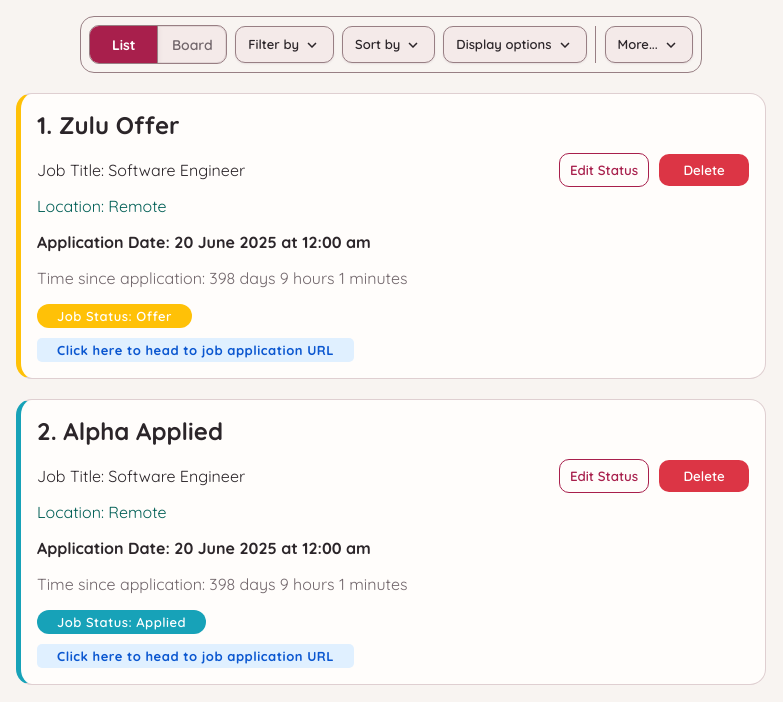
Test: Job application viewing flow › shows an error and rolls back the active list sort when saving fails
This screenshot has width=783, height=702.
Expected: the heading "1. Zulu Offer" is shown, [37,110,180,140]
Click the button "Sort by": (389, 44) [342,26,435,63]
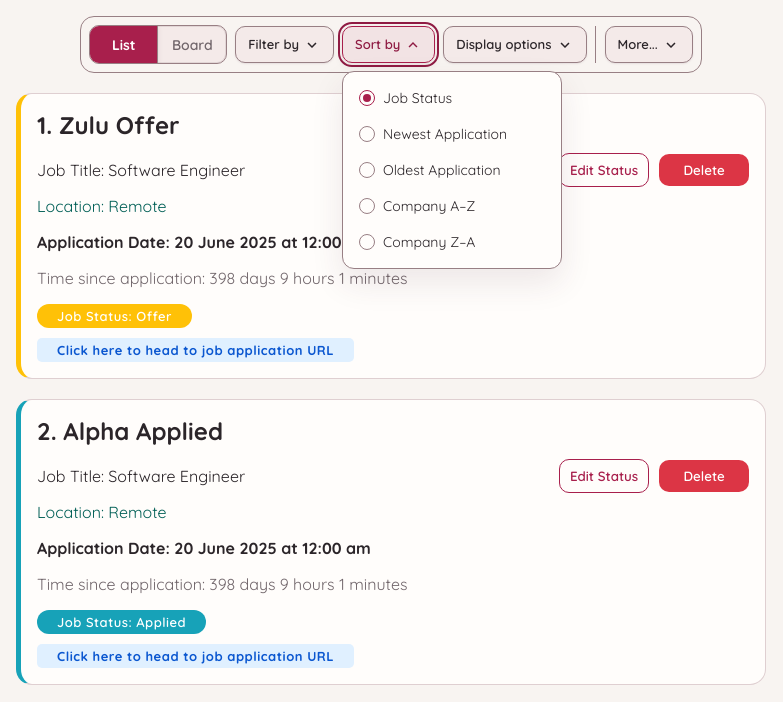
Click the radio button labelled "Company A–Z": (417, 206) [359,197,475,215]
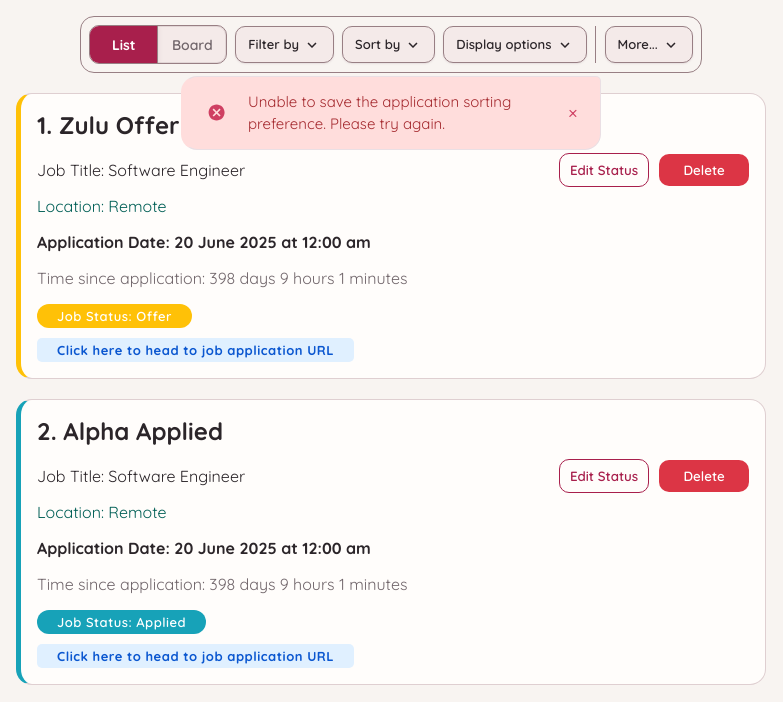
Now the text "Unable to save the application sorting preference. Please try again." is shown, box [248,91,546,134]
Click the button "Sort by": (389, 44) [342,26,435,63]
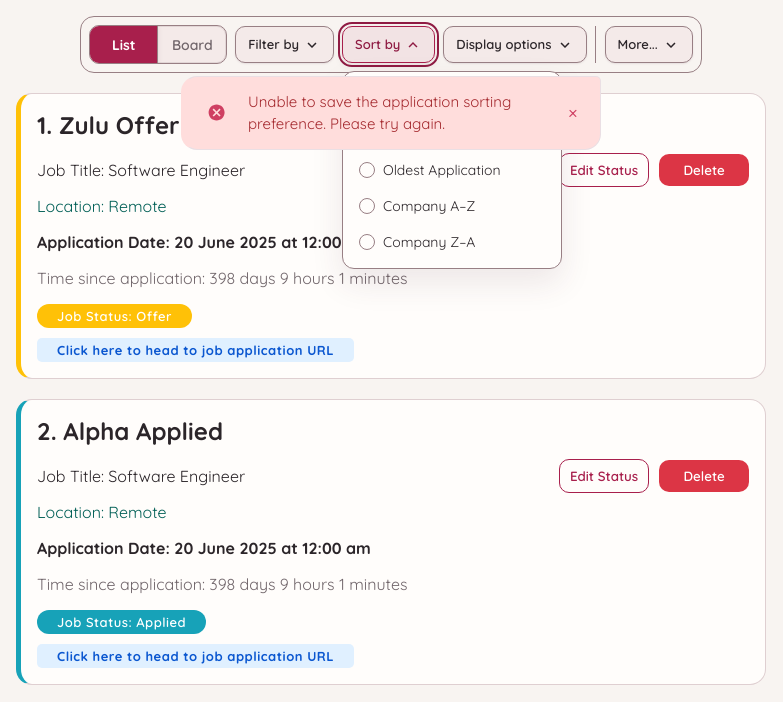
Expected: the radio button labelled "Job Status" is checked, [359,89,452,107]
Now the radio button labelled "Company A–Z" is not checked, box [359,197,475,215]
